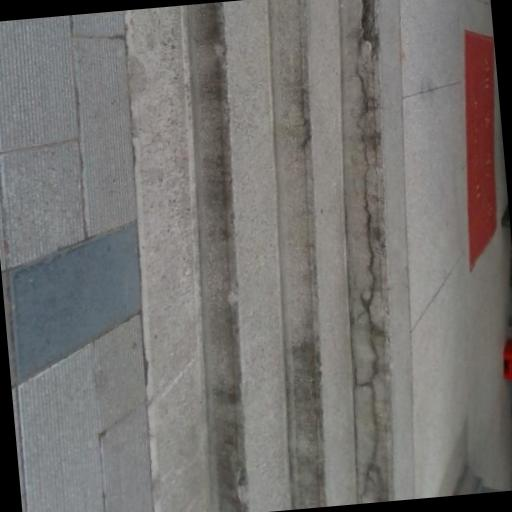stairs: (129, 0, 356, 511)
